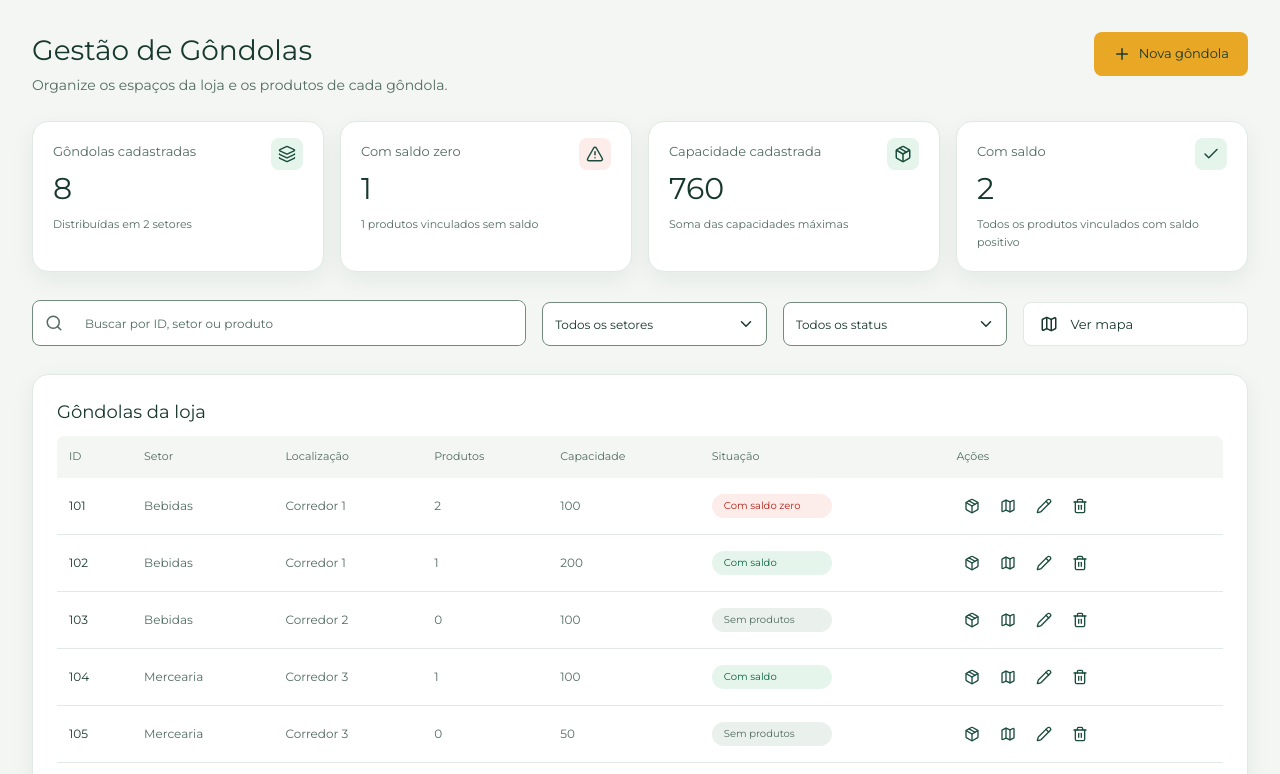
blocks deletion of known product links
The width and height of the screenshot is (1280, 774).
Click the button named "Excluir gôndola 101" at (1080,506), box [1064,488,1096,524]
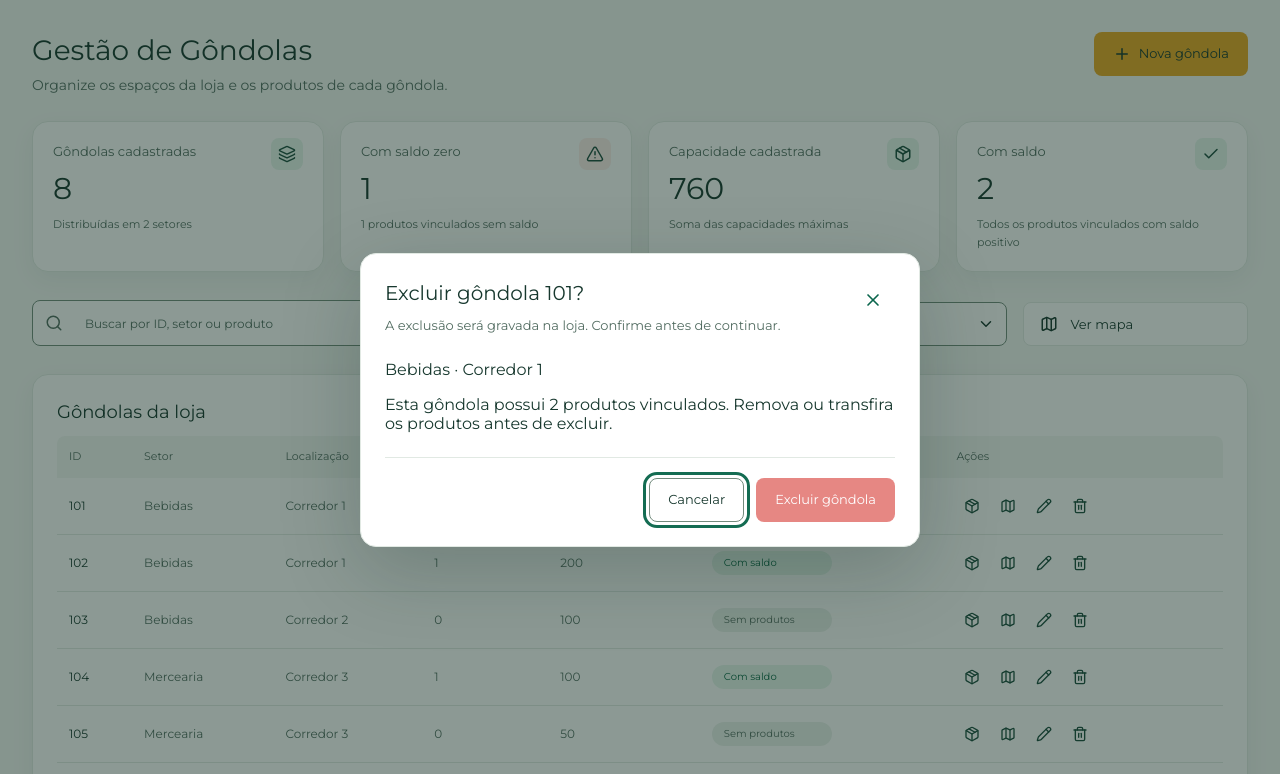
Result: the button "Excluir gôndola" is disabled at [756,478,895,522]
